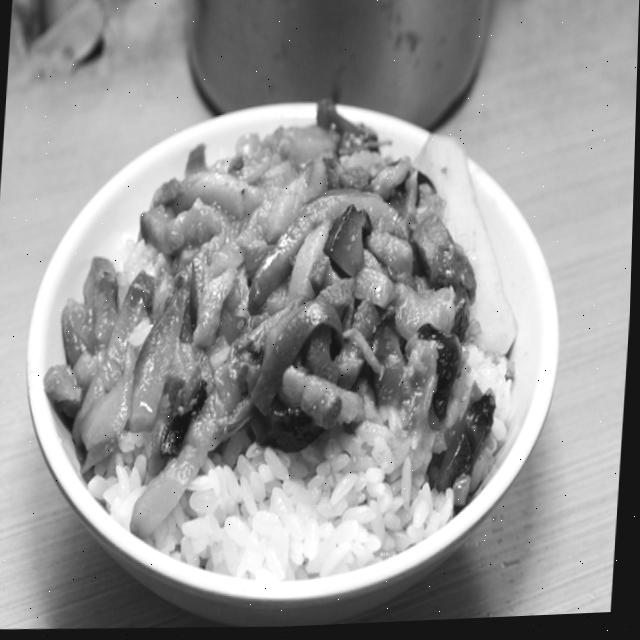猪肉菜式: (16, 72, 590, 625)
